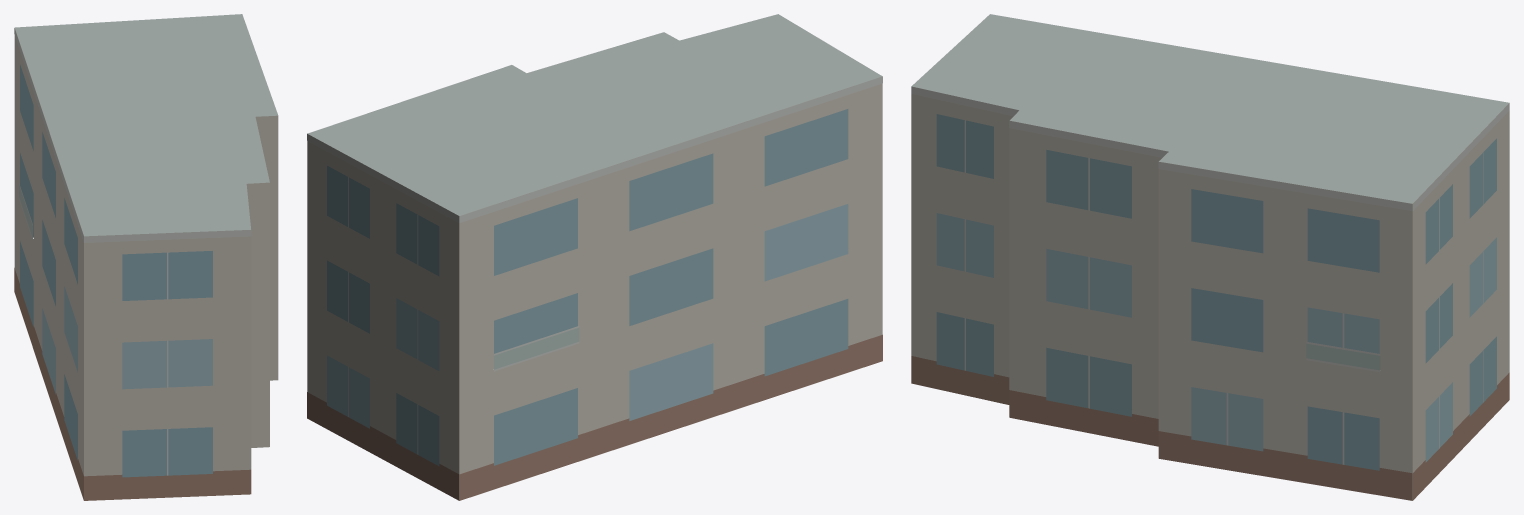
File: survey-upis-32891972.glb
3 views of the same model, side by side, from view 1: azimuth 30°, elevation 25°; view 2: azimuth 150°, elevation 25°; view 3: azimuth 270°, elevation 25° (orthographic). The views are drawn at different scales.
Visible parts, largest first — view 1: survey-upis-32891972.tmp; view 2: survey-upis-32891972.tmp; view 3: survey-upis-32891972.tmp.
Boxes of the visible parts, bbox=[...] form: survey-upis-32891972.tmp: bbox=[14, 14, 278, 500]; survey-upis-32891972.tmp: bbox=[307, 14, 882, 500]; survey-upis-32891972.tmp: bbox=[911, 14, 1509, 500].
Bounding box in the file's own units: 13.44 × 9.8 × 17.9.
